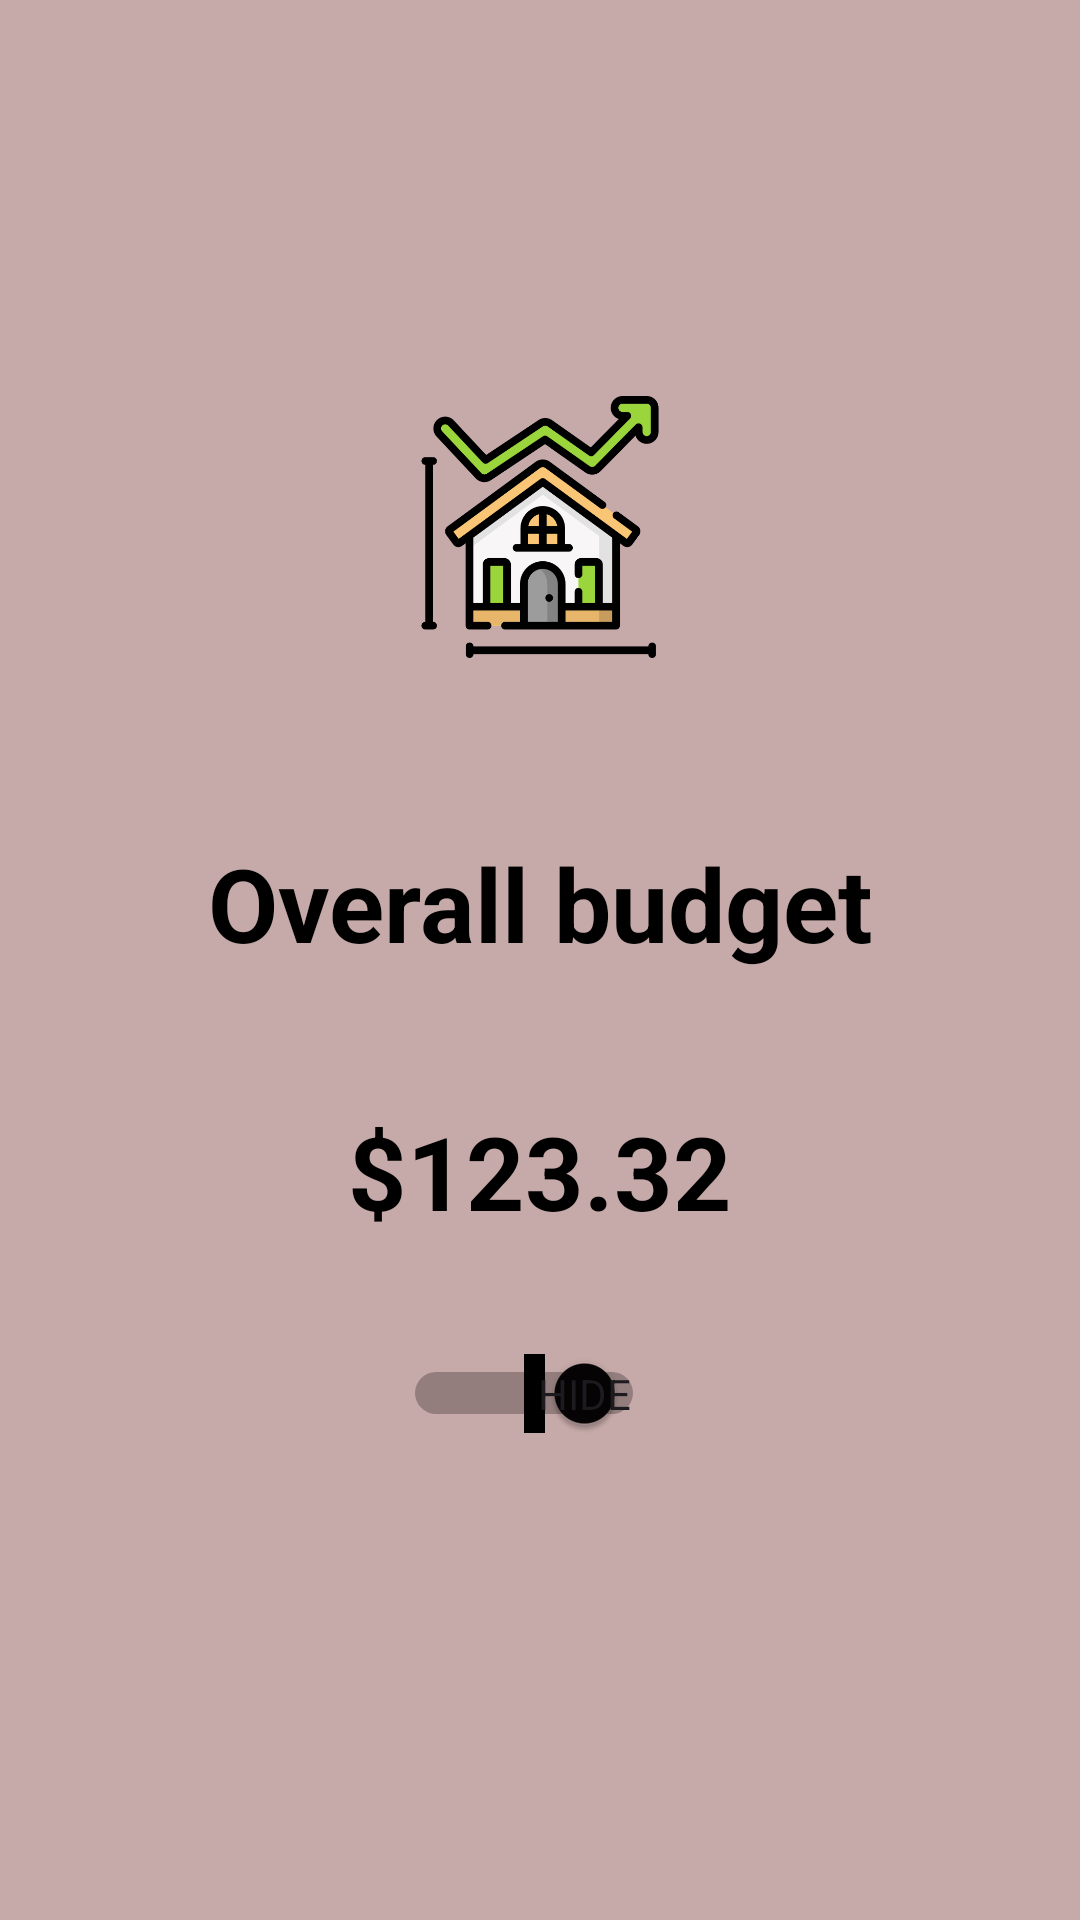

Named icons in this screenshot (1080w x 1920h) and their bounding boxes, (x1, y1, x2, y2):
price: (421, 396, 659, 658)
